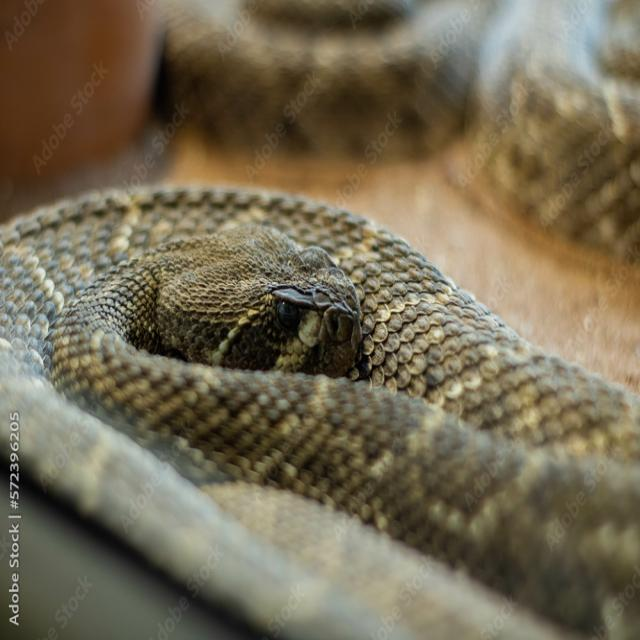Snake: (22, 142, 640, 640)
